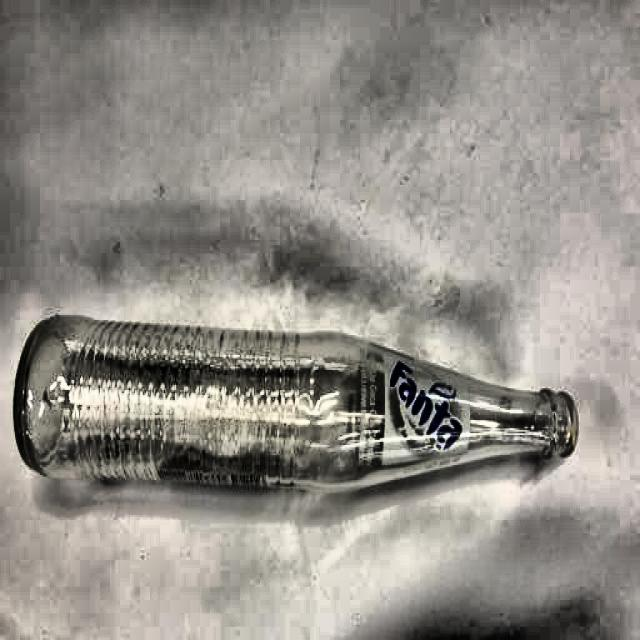glass: (14, 314, 582, 494)
